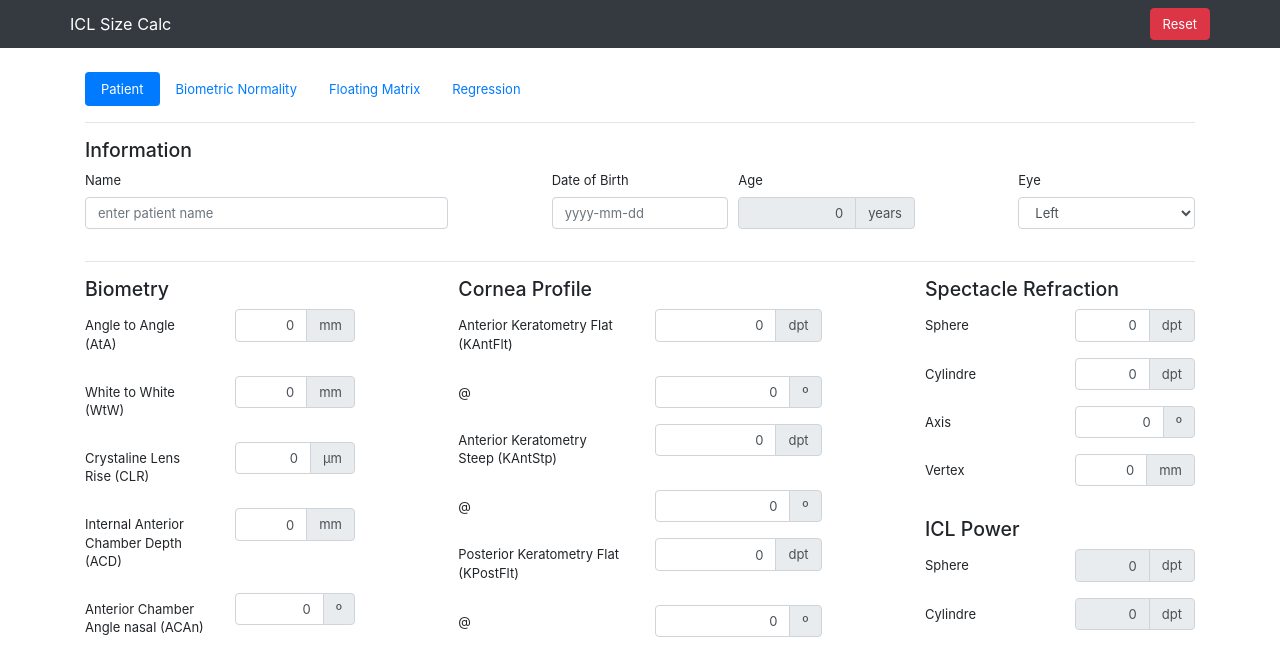
switches to Regression tab when clicked
Click the link "Regression" at (486, 89), box [452,81,521,97]
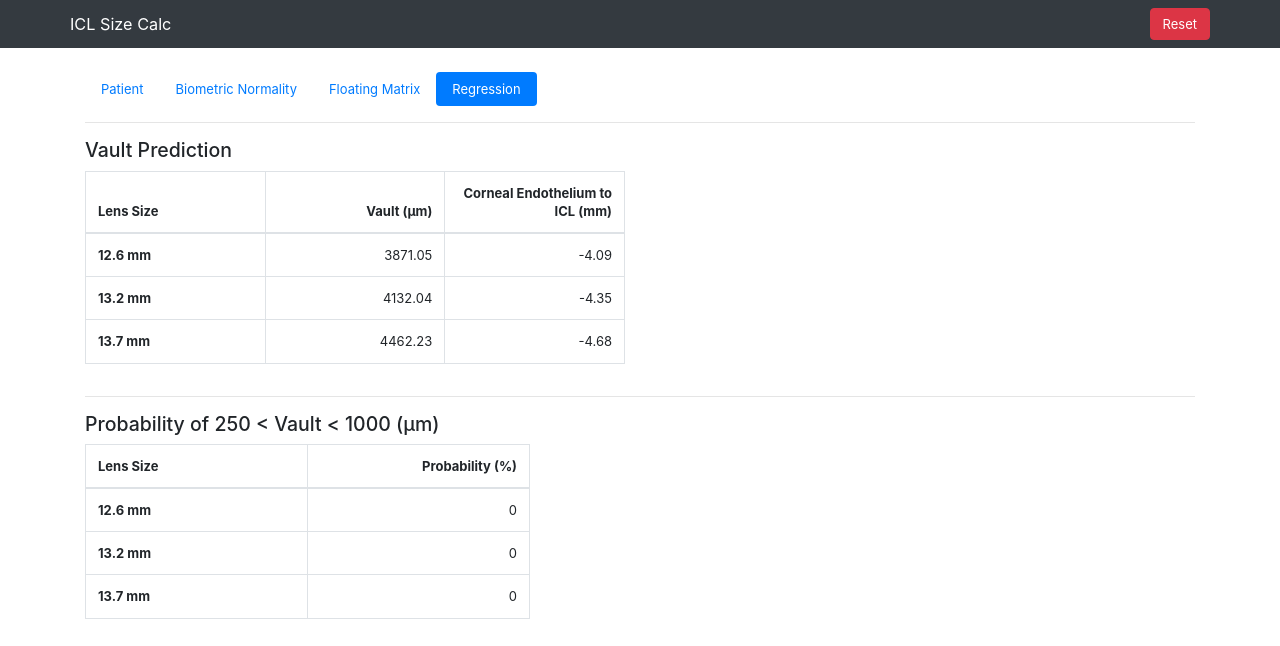
Check: the heading "Vault Prediction" is shown, box [85,138,232,162]
Check: the label labelled "Name" is gone
Check: the heading "Probability of 250 < Vault < 1000 (μm)" is shown, box [85,412,440,436]
